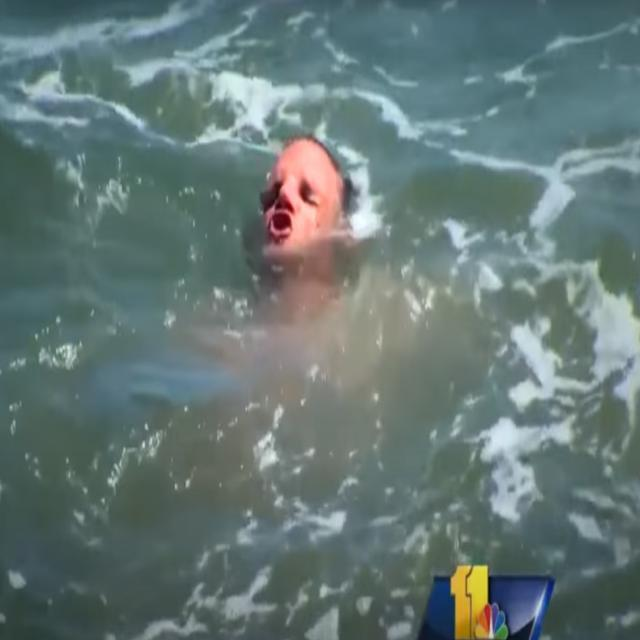Out of Water: (254, 120, 356, 274)
